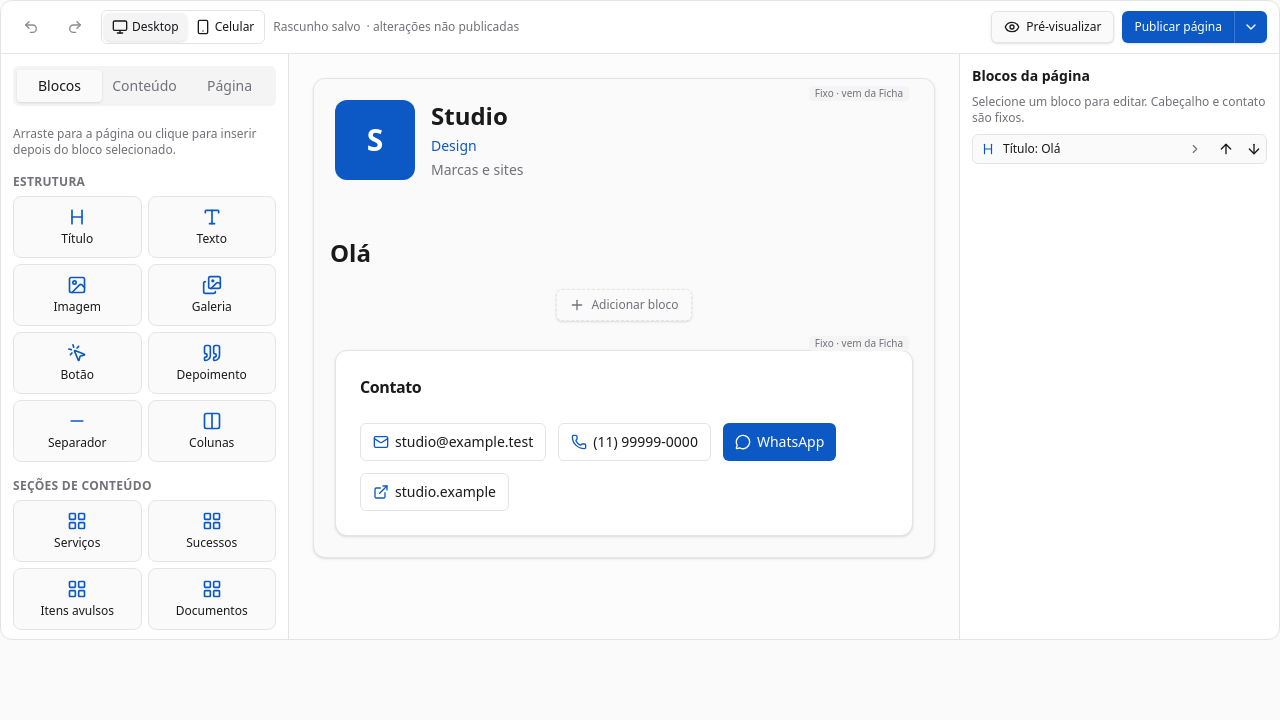
it: editor do portfólio › seleciona pelo teclado, mostra as propriedades, Delete exclui e Ctrl+Z restaura; conteúdo vira destaque
Press Enter in the element named "Título: Olá", box [330,236,371,269]
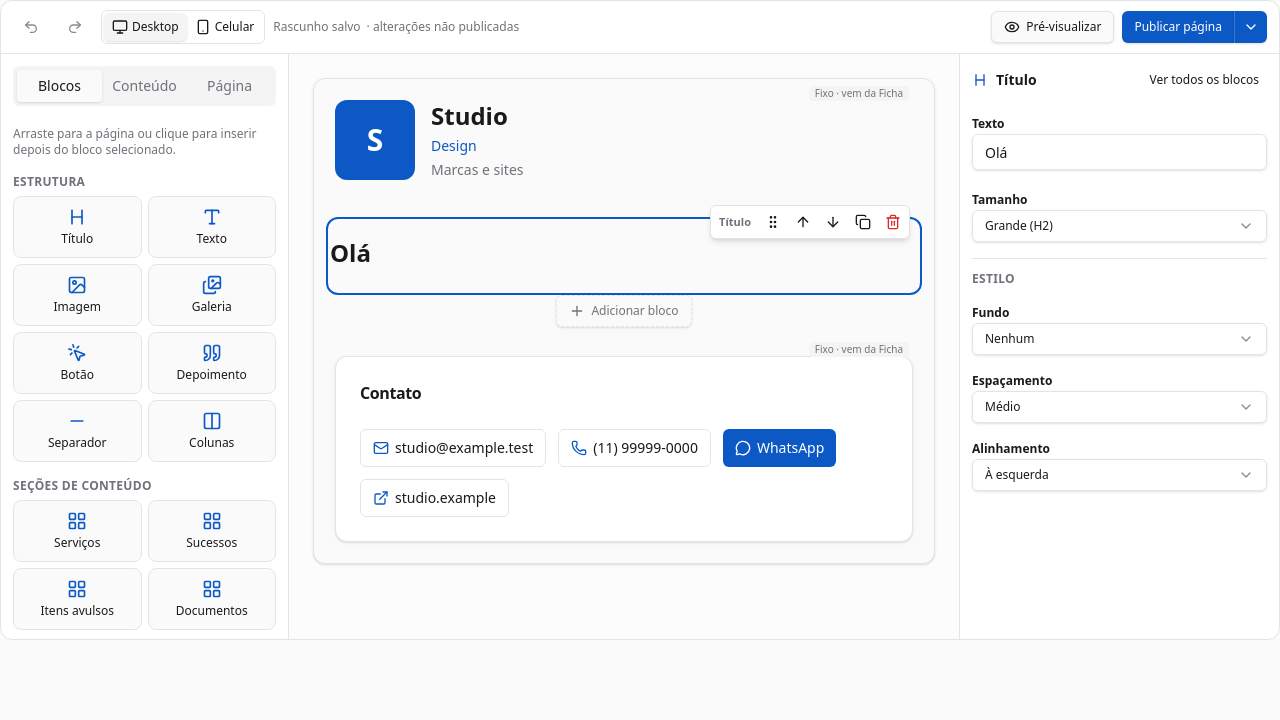
Check: the text box named "Texto do título" is shown, box [330,237,918,269]
Press Delete
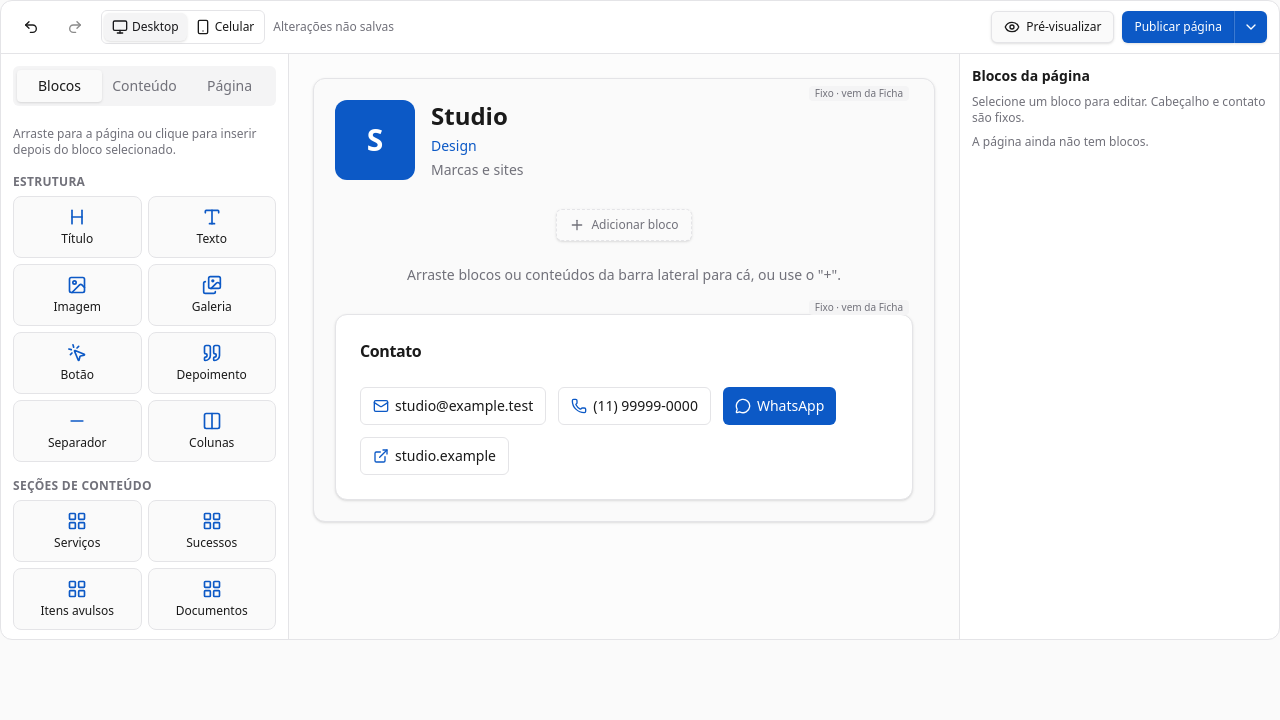
Check: the button "Título: Olá" is not shown
Press z
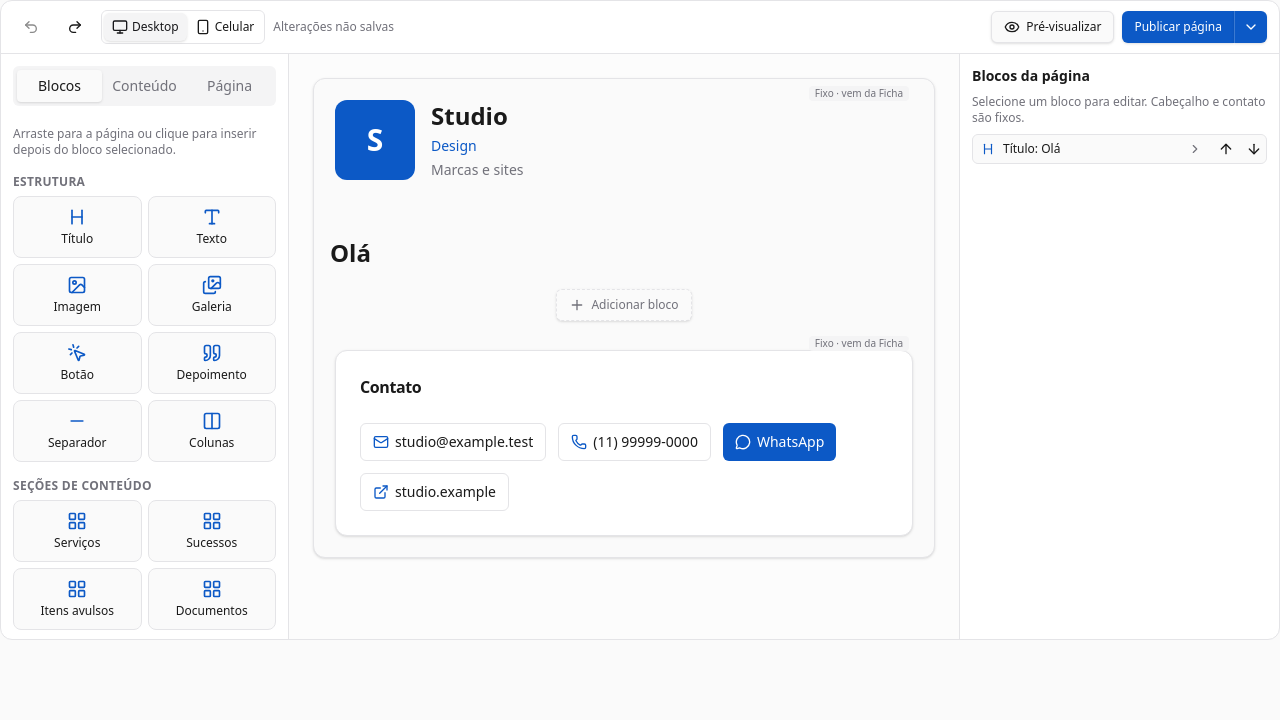
Check: the element named "Título: Olá" is shown, box [330,236,371,269]
Click the tab "Conteúdo". click: (144, 86)
box: [102,70,187,102]
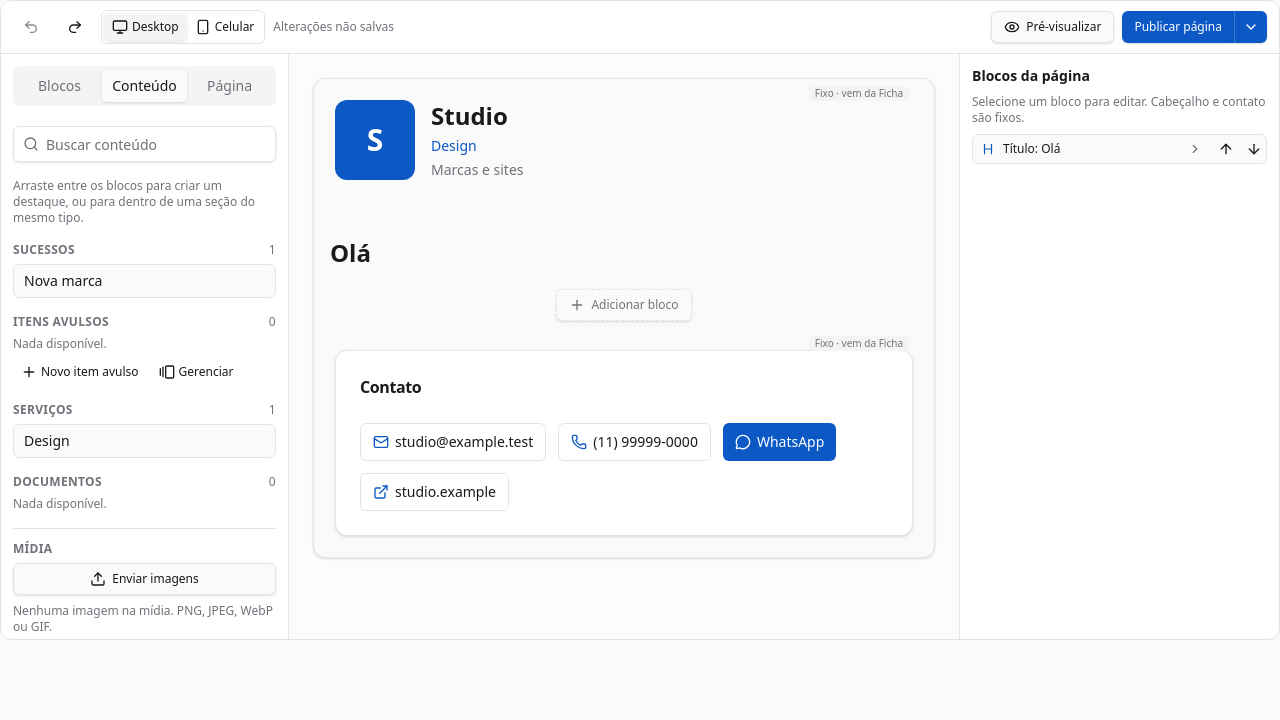
Click the button with aria-label "Inserir em destaque: Nova marca". click: (63, 280)
box: [13,264,276,298]
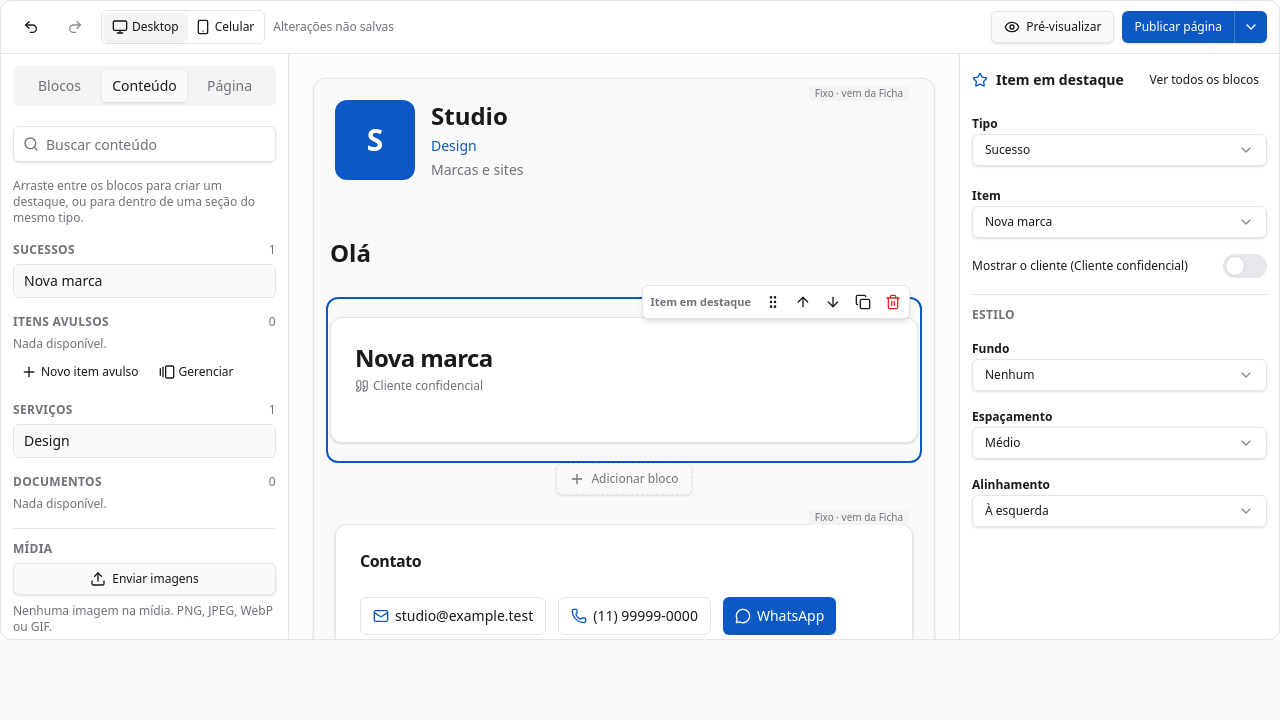
Check: the text "Nova marca" below "Sucessos" is shown, box [24,271,102,290]
Check: the element named "Item em destaque (sucesso)" is shown, box [330,301,918,459]
